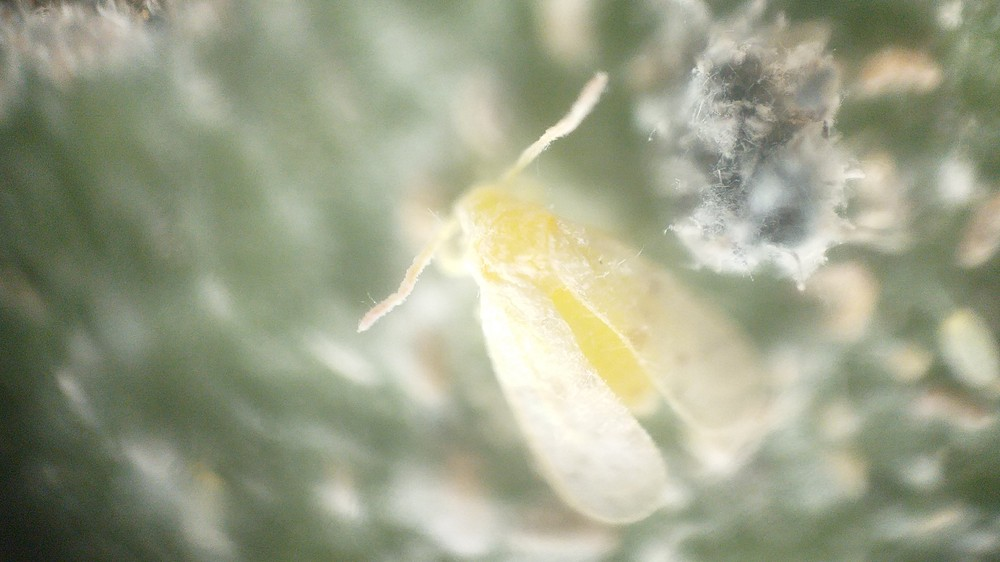Mosca Blanca: (328, 68, 858, 531)
